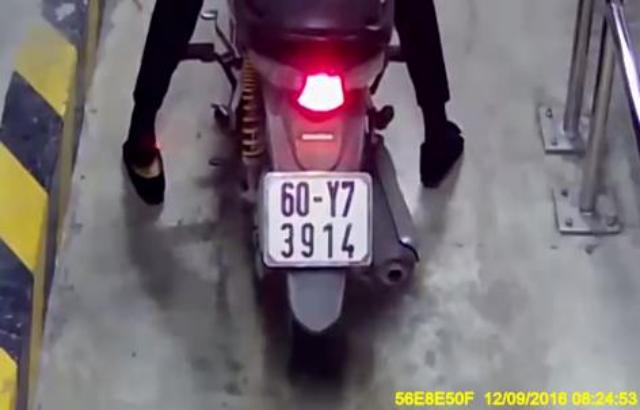plate: (250, 170, 376, 270)
